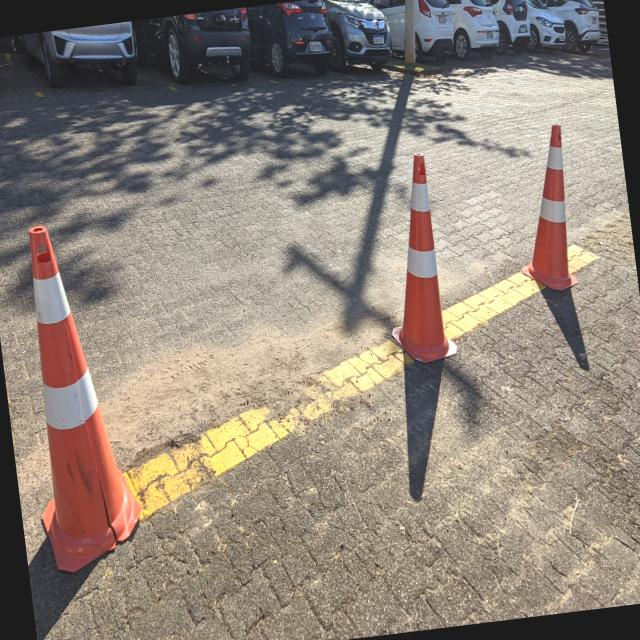cone: (3, 214, 150, 578), (368, 149, 460, 369), (501, 118, 583, 296)
